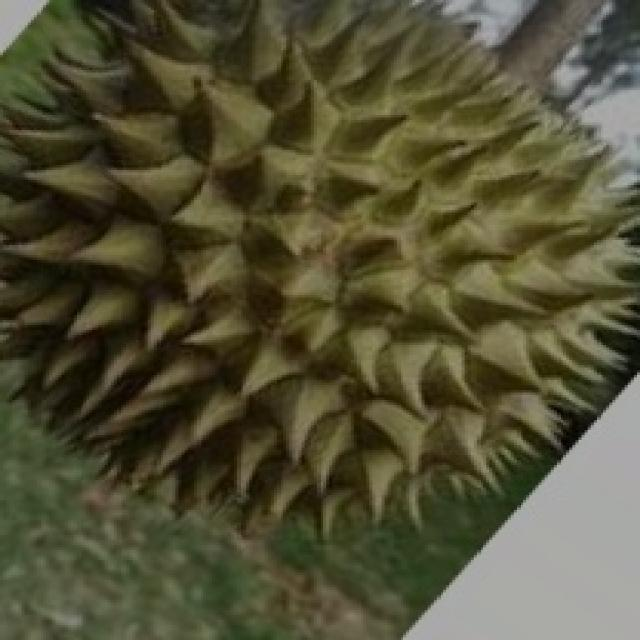fruit: (261, 277, 636, 640)
